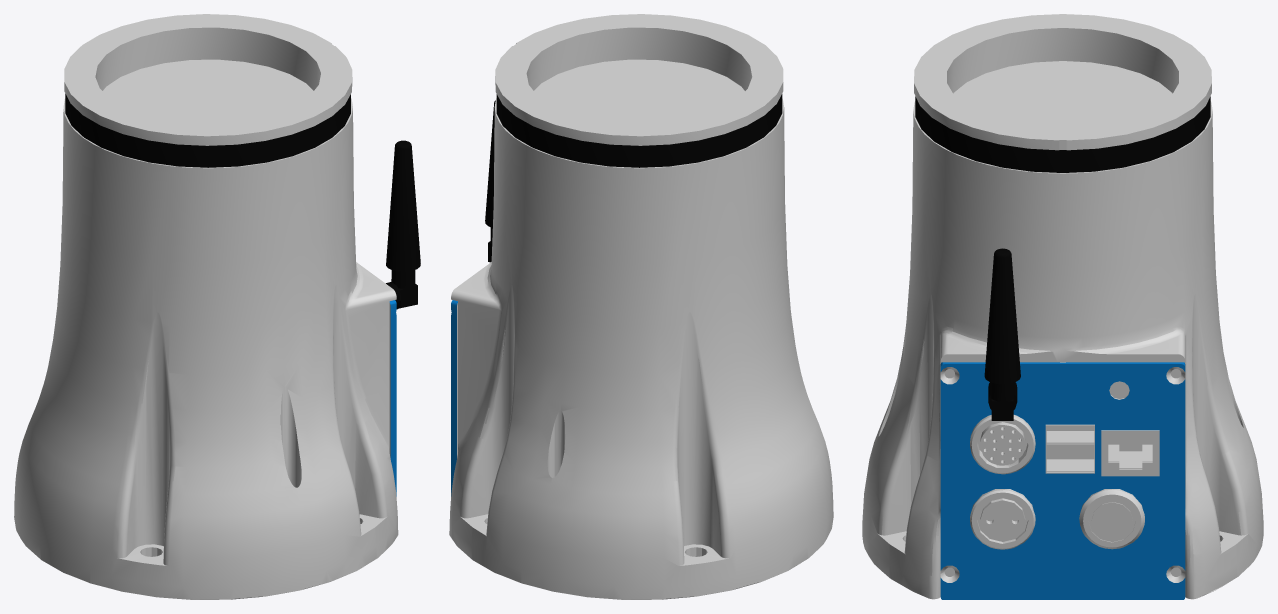
3 renders of one model, left to right at view 1: azimuth 30°, elevation 25°; view 2: azimuth 150°, elevation 25°; view 3: azimuth 270°, elevation 25°, orthographic. The views are drawn at different scales.
Parts seen in each view (by area): view 1: Mesh, Mesh.001, Mesh.028, Mesh.002; view 2: Mesh, Mesh.001, Mesh.002, Mesh.028; view 3: Mesh, Mesh.002, Mesh.001, Mesh.028.
Part boxes in pixels (box(x1,y1,x2,y2)): Mesh: box(14, 14, 398, 599); Mesh.001: box(65, 93, 350, 167); Mesh.028: box(386, 140, 420, 271); Mesh.002: box(389, 300, 396, 496); Mesh: box(449, 14, 833, 599); Mesh.001: box(496, 94, 782, 167); Mesh.002: box(451, 300, 457, 496); Mesh.028: box(485, 100, 495, 227); Mesh: box(862, 14, 1263, 599); Mesh.002: box(940, 362, 1185, 599); Mesh.001: box(915, 96, 1210, 172); Mesh.028: box(984, 248, 1020, 384).
Size of the model in its own units: 0.1143 by 0.11 by 0.1385.
